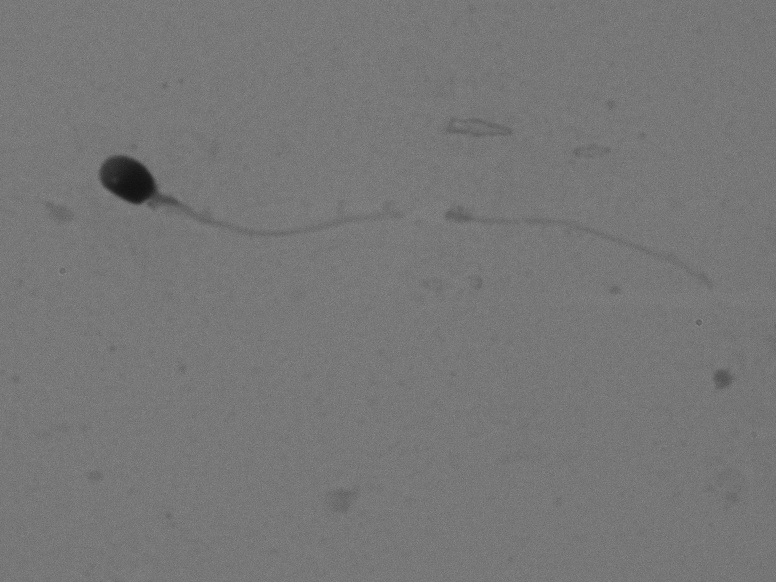Abnormal: (90, 135, 734, 333)
